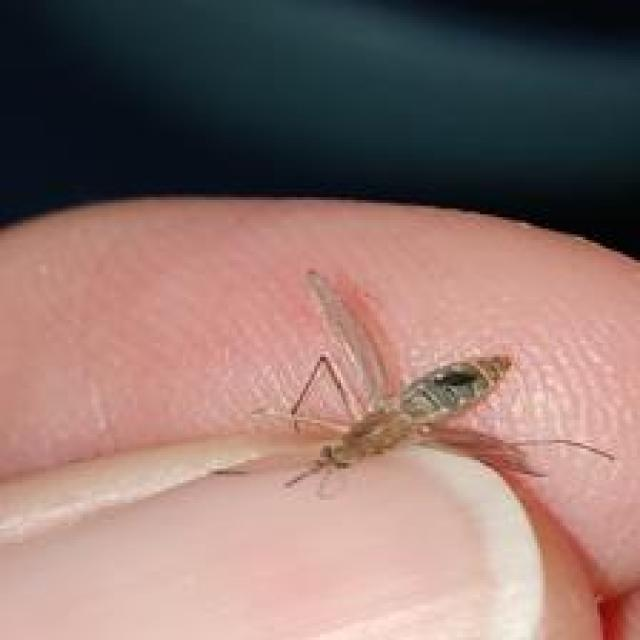Culex: (213, 267, 616, 502)
